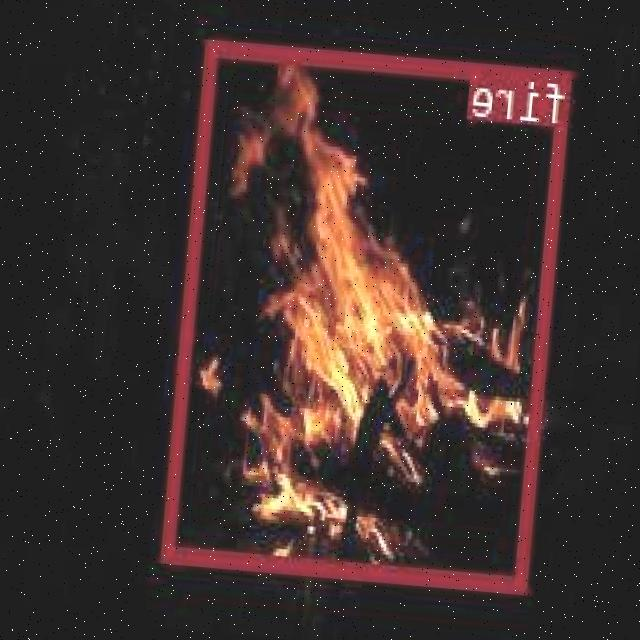fire: (162, 38, 574, 592)
